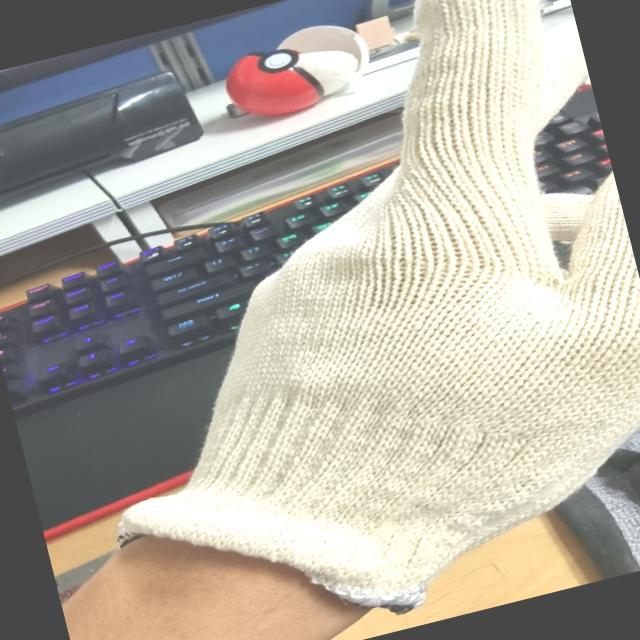Gloves: (133, 0, 640, 553)
